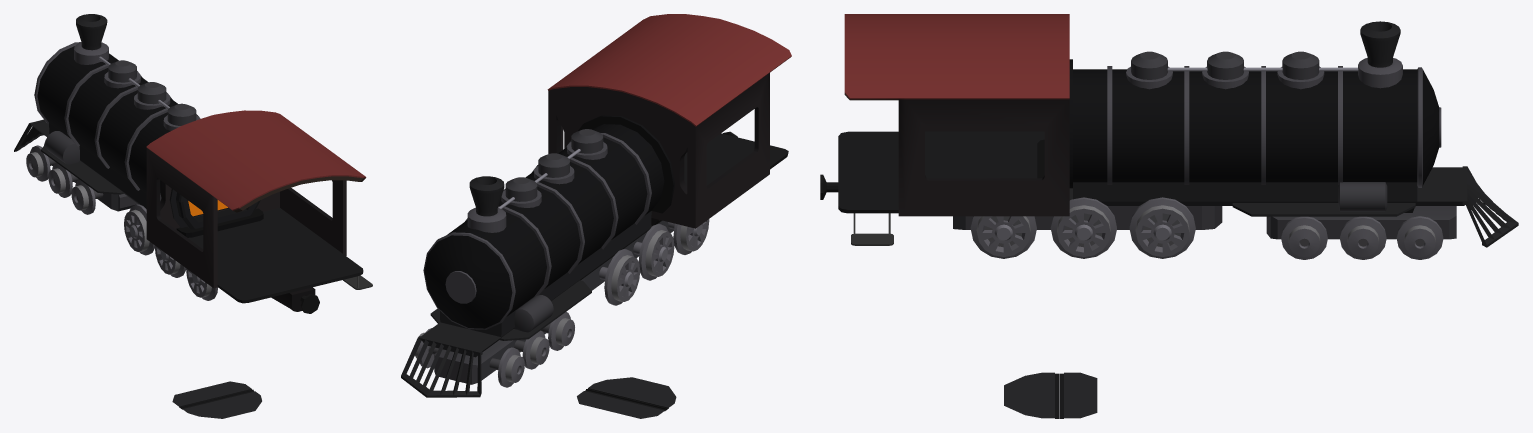
File: Train.fbx
3 views of the same model, side by side, from view 1: azimuth 30°, elevation 25°; view 2: azimuth 150°, elevation 25°; view 3: azimuth 270°, elevation 25° (orthographic). The views are drawn at different scales.
Visible parts, largest first — view 1: Cabin, Engine, Heater, HeaterDoor_Up, TrainWheels_Small_Big_F, HeaterDoor_Down, TrainWheels_Small_F, TrainWheels_Small_B, TrainWheels_Small_M, TrainWheels_Small_Big_B, TrainWheels_Small_Big_M; view 2: Engine, Cabin, HeaterDoor_Up, TrainWheels_Small_Big_F, TrainWheels_Small_Big_M, HeaterDoor_Down, TrainWheels_Small_F, TrainWheels_Small_Big_B, TrainWheels_Small_M, TrainWheels_Small_B; view 3: Engine, Cabin, TrainWheels_Small_Big_F, TrainWheels_Small_Big_M, TrainWheels_Small_Big_B, HeaterDoor_Up, HeaterDoor_Down, TrainWheels_Small_F, TrainWheels_Small_B, TrainWheels_Small_M.
Part boxes in pixels (x1,y1,x2,y2): Cabin: (146,110,372,313); Engine: (14,14,200,211); Heater: (169,188,263,237); HeaterDoor_Up: (180,389,261,418); TrainWheels_Small_Big_F: (124,204,154,255); HeaterDoor_Down: (172,381,252,407); TrainWheels_Small_F: (26,145,56,181); TrainWheels_Small_B: (71,179,103,214); TrainWheels_Small_M: (48,163,78,197); TrainWheels_Small_Big_B: (186,268,217,300); TrainWheels_Small_Big_M: (154,245,186,277); Engine: (401,115,674,397); Cabin: (547,14,791,228); HeaterDoor_Up: (587,377,676,409); TrainWheels_Small_Big_F: (599,249,640,305); TrainWheels_Small_Big_M: (633,223,674,280); HeaterDoor_Down: (577,389,666,418); TrainWheels_Small_F: (415,328,524,387); TrainWheels_Small_Big_B: (668,219,709,254); TrainWheels_Small_M: (514,330,549,369); TrainWheels_Small_B: (541,312,574,350); Engine: (953,21,1518,247); Cabin: (820,14,1069,245); TrainWheels_Small_Big_F: (1129,197,1195,258); TrainWheels_Small_Big_M: (1050,197,1116,258); TrainWheels_Small_Big_B: (970,216,1036,258); HeaterDoor_Up: (1004,372,1059,418); HeaterDoor_Down: (1059,372,1097,418); TrainWheels_Small_F: (1396,216,1443,259); TrainWheels_Small_B: (1281,216,1327,259); TrainWheels_Small_M: (1340,216,1386,259).
Size of the model in its own units: 2.85 by 5.53 by 9.48.
